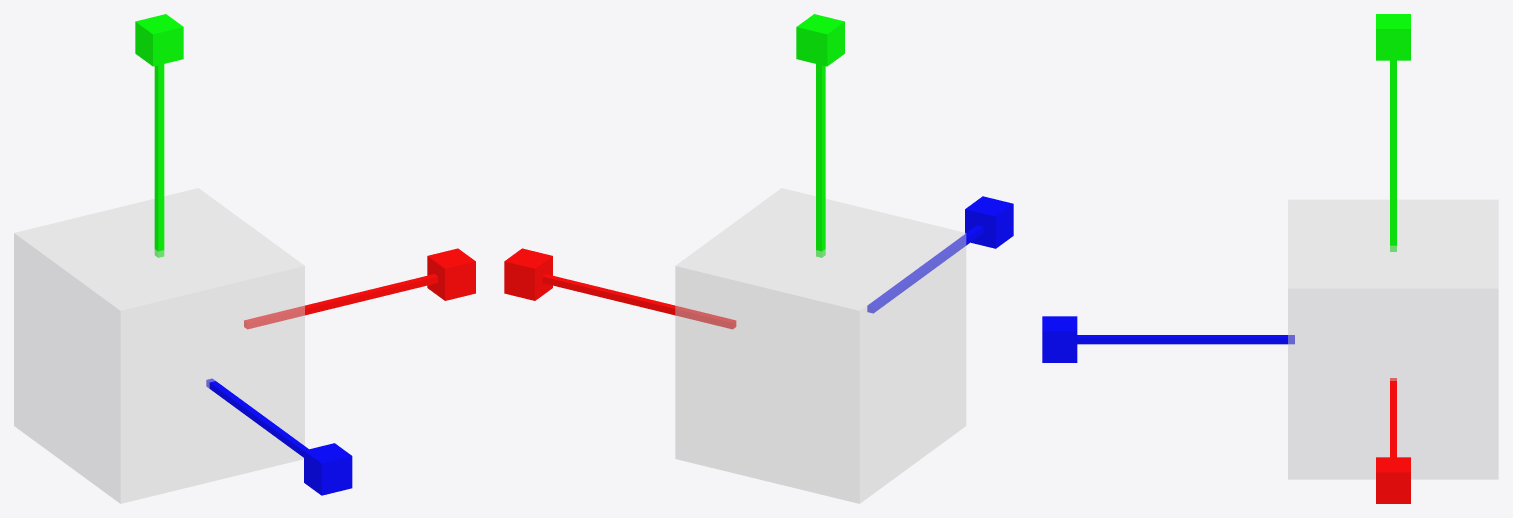
File: scale.glb
The picture shows the model from 3 angles, left to right: view 1: azimuth 30°, elevation 25°; view 2: azimuth 150°, elevation 25°; view 3: azimuth 270°, elevation 25°; orthographic projection.
Parts seen in each view (by area): view 1: Cube.003, Cube.001, Cube, Cube.002; view 2: Cube.003, Cube, Cube.001, Cube.002; view 3: Cube.003, Cube.002, Cube.001, Cube.
Part boxes in pixels (x1,y1,x2,y2): Cube.003: [14, 188, 304, 503]; Cube.001: [135, 14, 183, 257]; Cube: [244, 248, 475, 329]; Cube.002: [206, 378, 352, 495]; Cube.003: [675, 188, 966, 503]; Cube: [504, 248, 736, 329]; Cube.001: [796, 14, 844, 257]; Cube.002: [867, 196, 1013, 313]; Cube.003: [1288, 199, 1498, 479]; Cube.002: [1042, 316, 1294, 362]; Cube.001: [1376, 14, 1410, 251]; Cube: [1376, 378, 1410, 503].
Size of the model in its own units: 1.3 by 1.3 by 1.3.
